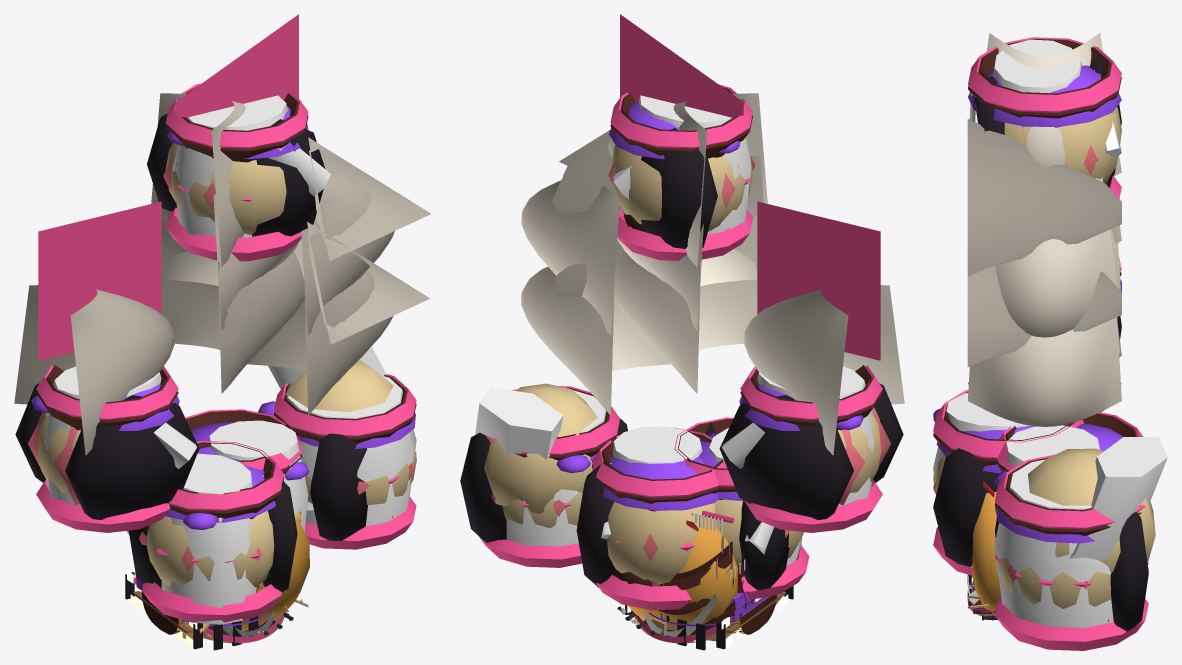
The model's file is navire-kikso.glb.
3 views of the same model, side by side, from view 1: azimuth 30°, elevation 25°; view 2: azimuth 150°, elevation 25°; view 3: azimuth 270°, elevation 25° (orthographic). The views are drawn at different scales.
Visible parts, largest first — view 1: matelot_corde.002, matelot_barreur.002, matelot_vigie.002, matelot_salut.002, drapeau.003, voile_artimon.002, voile_grande.003, voile_misaine.003, voile_misaine_hune.002, matelot_porteur.002, flamme.003, navire_corps.003 (+5 smaller); view 2: matelot_barreur.002, matelot_porteur.002, matelot_vigie.002, drapeau.003, voile_artimon.002, matelot_salut.002, matelot_salut_bras.002, voile_grande.003, navire_corps.003, voile_misaine.003, matelot_corde.002, voile_misaine_hune.002 (+5 smaller); view 3: matelot_salut.002, matelot_vigie.002, voile_foc.003, voile_misaine.003, matelot_salut_bras.002, matelot_corde.002, voile_misaine_hune.002, voile_foc2.002, matelot_porteur.002, navire_corps.003, voile_perroquet.003.
Boxes of the visible parts, x1=… form: matelot_corde.002: x1=126, y1=441, x2=297, y2=624; matelot_barreur.002: x1=15, y1=365, x2=199, y2=532; matelot_vigie.002: x1=147, y1=83, x2=330, y2=261; matelot_salut.002: x1=258, y1=374, x2=416, y2=549; drapeau.003: x1=38, y1=201, x2=161, y2=360; voile_artimon.002: x1=14, y1=285, x2=174, y2=455; voile_grande.003: x1=161, y1=216, x2=304, y2=393; voile_misaine.003: x1=247, y1=270, x2=393, y2=415; voile_misaine_hune.002: x1=301, y1=170, x2=394, y2=335; matelot_porteur.002: x1=185, y1=409, x2=309, y2=531; flamme.003: x1=175, y1=14, x2=298, y2=117; navire_corps.003: x1=125, y1=508, x2=309, y2=650; matelot_barreur.002: x1=719, y1=365, x2=903, y2=532; matelot_porteur.002: x1=576, y1=426, x2=726, y2=610; matelot_vigie.002: x1=608, y1=84, x2=755, y2=260; drapeau.003: x1=757, y1=201, x2=880, y2=360; voile_artimon.002: x1=744, y1=285, x2=904, y2=455; matelot_salut.002: x1=460, y1=386, x2=627, y2=567; matelot_salut_bras.002: x1=475, y1=383, x2=597, y2=514; voile_grande.003: x1=614, y1=216, x2=757, y2=393; navire_corps.003: x1=617, y1=510, x2=793, y2=650; voile_misaine.003: x1=521, y1=266, x2=670, y2=415; matelot_corde.002: x1=674, y1=417, x2=809, y2=599; voile_misaine_hune.002: x1=521, y1=180, x2=619, y2=335; matelot_salut.002: x1=994, y1=454, x2=1148, y2=650; matelot_vigie.002: x1=968, y1=37, x2=1121, y2=198; voile_foc.003: x1=967, y1=119, x2=1121, y2=276; voile_misaine.003: x1=968, y1=317, x2=1121, y2=426; matelot_salut_bras.002: x1=1028, y1=437, x2=1167, y2=573; matelot_corde.002: x1=933, y1=390, x2=1083, y2=575; voile_misaine_hune.002: x1=995, y1=177, x2=1117, y2=337; voile_foc2.002: x1=967, y1=266, x2=1121, y2=366; matelot_porteur.002: x1=995, y1=412, x2=1148, y2=570; navire_corps.003: x1=967, y1=481, x2=1000, y2=620; voile_perroquet.003: x1=986, y1=33, x2=1121, y2=176.
Size of the model in its own units: 6.2 by 9 by 3.05.
